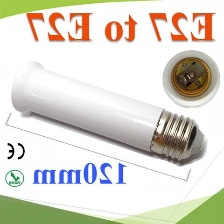light_bulb: (7, 58, 207, 164)
